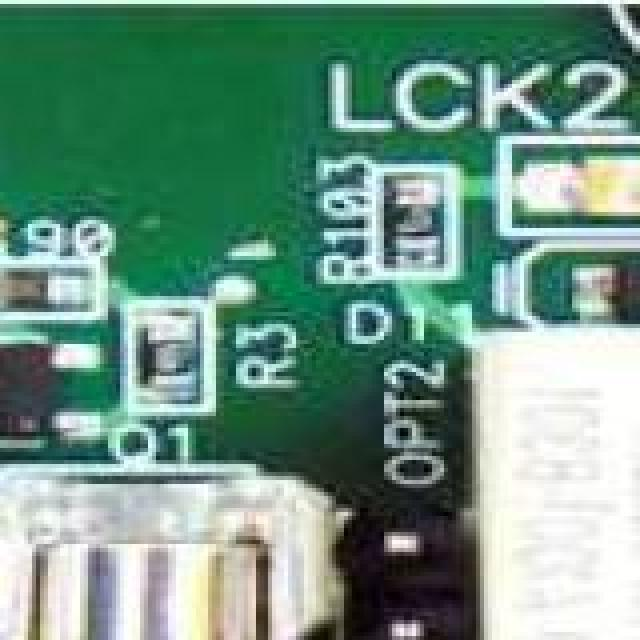LED: (524, 140, 640, 224)
diode: (564, 248, 640, 316)
fuse: (0, 456, 344, 640)
resistor: (144, 300, 216, 426), (376, 164, 442, 280), (0, 252, 100, 308)
transistor: (0, 312, 104, 452)
